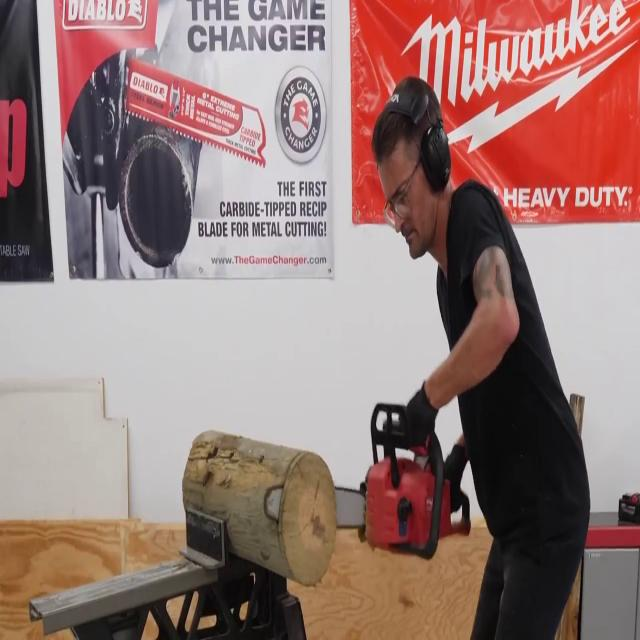earmuff: (422, 125, 453, 192)
glasses: (380, 180, 418, 222)
